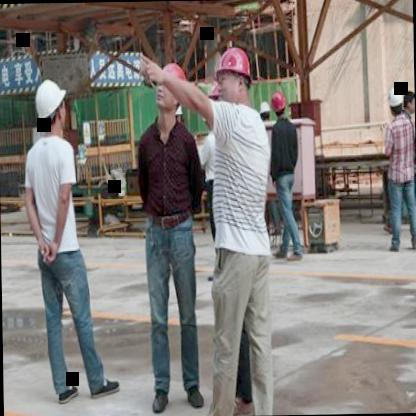head: (404, 89, 414, 116)
helmet: (213, 43, 255, 108), (30, 74, 72, 135), (154, 58, 187, 114), (388, 84, 402, 118), (272, 89, 287, 117), (260, 100, 272, 124)
